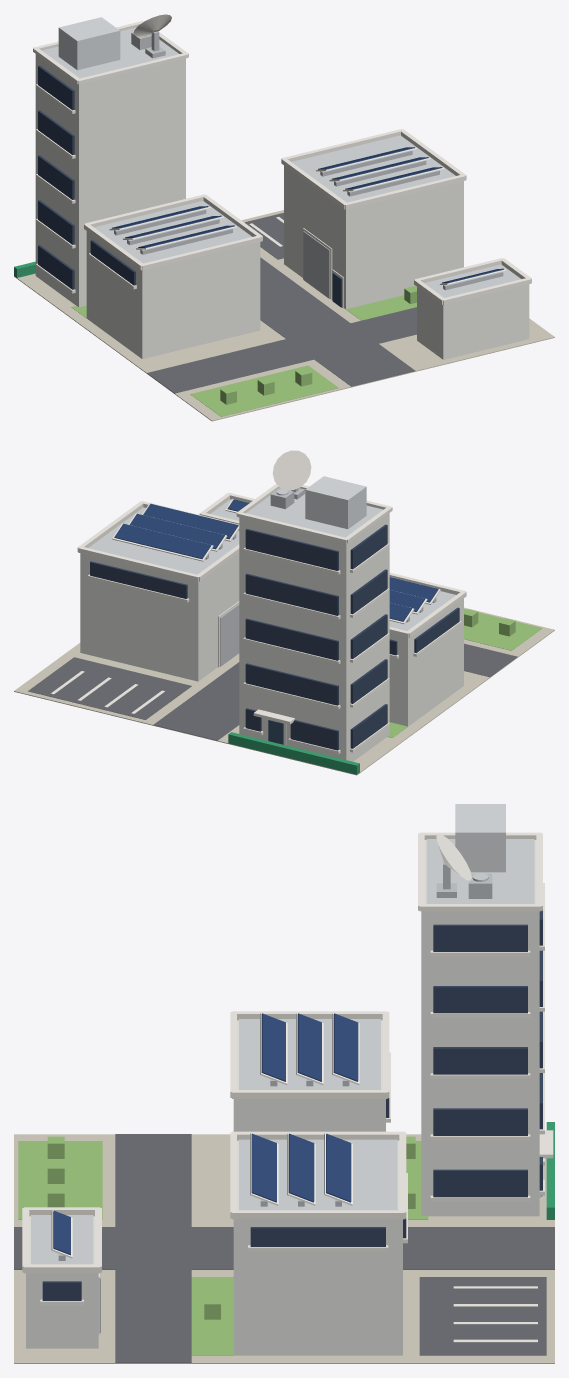
The picture shows the model from 3 angles, top to bottom: view 1: azimuth 30°, elevation 25°; view 2: azimuth 150°, elevation 25°; view 3: azimuth 270°, elevation 25°; orthographic projection. The views are drawn at different scales.
Parts seen in each view (by area): view 1: office, hall_east, hall_west, road (×2), roof (×4), yard, parapet (×11), workshop, window_band (×6), lawn (×2), panel_rail (×6), plant_room (+3 smaller); view 2: office, window_band (×12), hall_east, yard, hall_west, car_park, solar_panel (×5), roof (×3), road (×2), parapet (×4), plant_room, hedge (+4 smaller); view 3: road (×2), office, hall_east, yard, roof (×4), window_band (×7), solar_panel (×7), car_park, lawn (×3), parapet (×6), hall_west, workshop (+4 smaller).
Boxes of the visible parts, box(x1,y1,x2,y2) form: office: box(35, 54, 185, 307); hall_east: box(284, 165, 463, 309); hall_west: box(86, 231, 260, 358); road (×2): box(147, 257, 416, 393); roof (×4): box(42, 27, 520, 297); yard: box(14, 210, 554, 421); parapet (×11): box(77, 52, 531, 304); workshop: box(417, 284, 529, 359); window_band (×6): box(38, 65, 135, 289); lawn (×2): box(190, 295, 416, 416); panel_rail (×6): box(114, 150, 439, 254); plant_room: box(58, 17, 120, 70); office: box(239, 513, 389, 761); window_band (×12): box(90, 524, 459, 750); hall_east: box(80, 553, 239, 681); yard: box(14, 607, 554, 775); hall_west: box(389, 598, 463, 726); car_park: box(28, 657, 191, 719); solar_panel (×5): box(114, 503, 438, 611); roof (×3): box(88, 488, 455, 630); road (×2): box(153, 643, 517, 740); parapet (×4): box(77, 501, 466, 637); plant_room: box(305, 476, 366, 529); hedge: box(228, 732, 359, 774); road (×2): box(14, 1134, 554, 1362); office: box(421, 840, 539, 1216); hall_east: box(233, 1140, 402, 1355); yard: box(14, 1134, 554, 1363); roof (×4): box(31, 839, 534, 1264); window_band (×7): box(42, 924, 527, 1300); solar_panel (×7): box(53, 1013, 358, 1255); car_park: box(419, 1277, 546, 1355); lawn (×3): box(18, 1141, 428, 1355); parapet (×6): box(24, 904, 541, 1273); hall_west: box(233, 1020, 385, 1131); workshop: box(26, 1216, 98, 1348).
Bounding box in the file's own units: 32 × 23.91 × 32.
